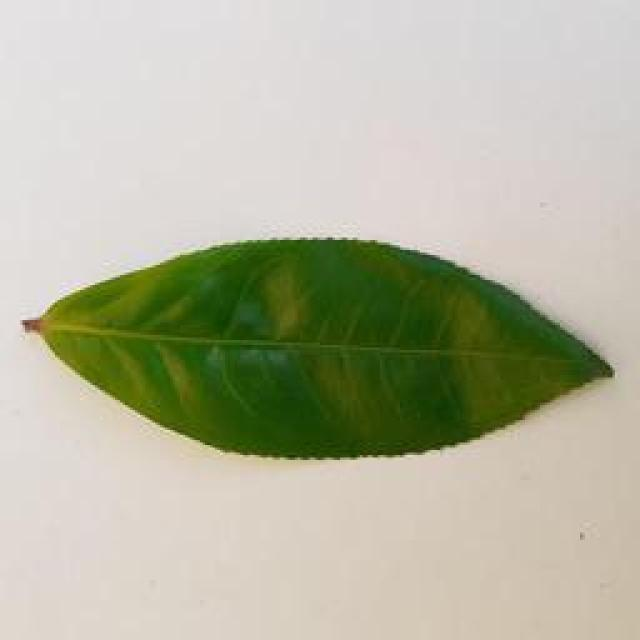Healthy: (10, 215, 640, 480)
